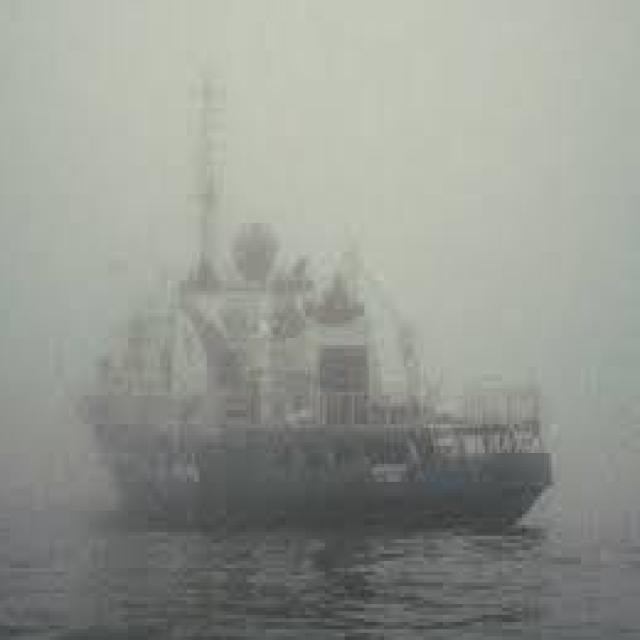fishing boat: (68, 192, 561, 532)
